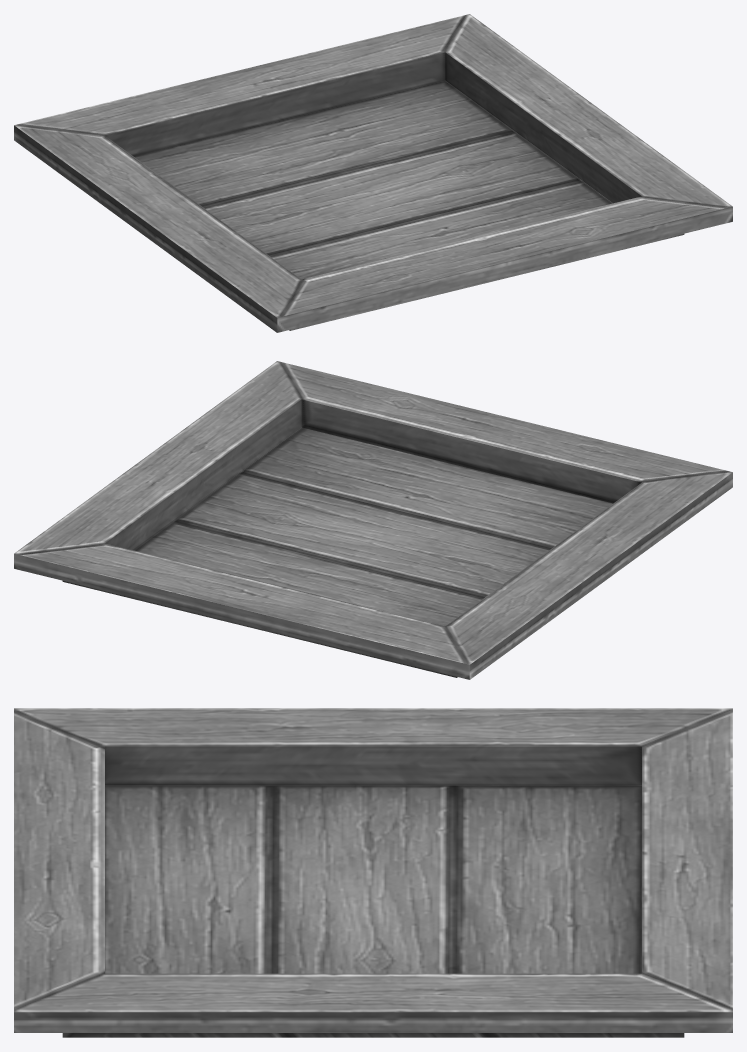
Rendered from CrateLid01.fbx.
The picture shows the model from 3 angles, top to bottom: view 1: azimuth 30°, elevation 25°; view 2: azimuth 150°, elevation 25°; view 3: azimuth 270°, elevation 25°; orthographic projection. The views are drawn at different scales.
Parts seen in each view (by area): view 1: CrateLid01_LOD0; view 2: CrateLid01_LOD0; view 3: CrateLid01_LOD0.
Boxes of the visible parts, left/top/right/bottom form: CrateLid01_LOD0: left=14, top=14, right=732, bottom=332; CrateLid01_LOD0: left=14, top=361, right=732, bottom=679; CrateLid01_LOD0: left=14, top=708, right=732, bottom=1037.
Size of what is drawn, in the model's own units: 0.4629 by 0.0326 by 0.4629.
